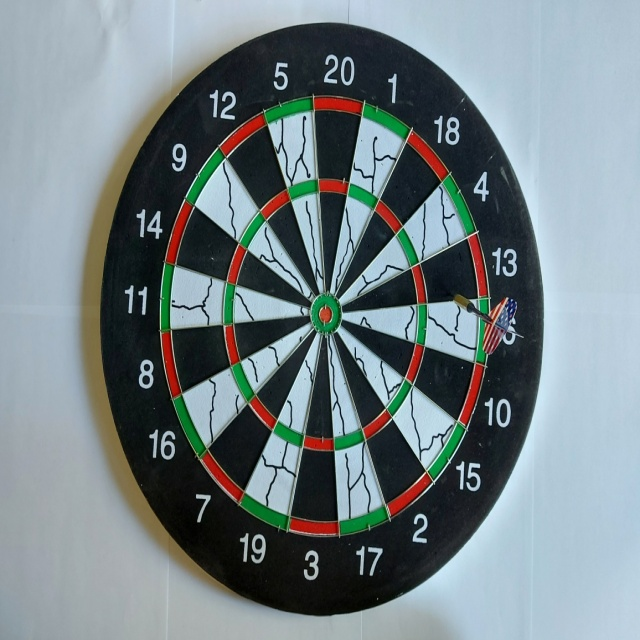Dart: (441, 285, 534, 354)
